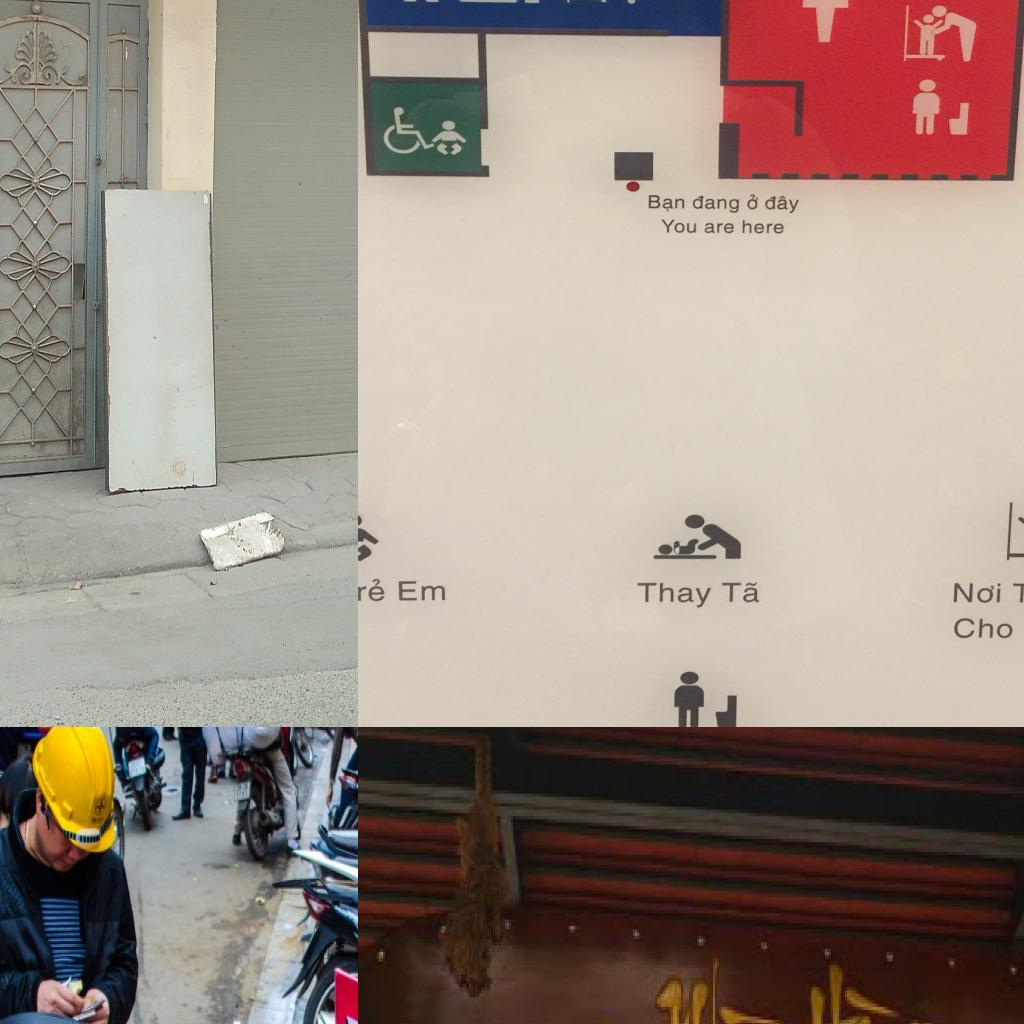text: (779, 955, 947, 1024), (647, 955, 779, 1024), (634, 581, 716, 610), (952, 616, 1015, 640), (395, 579, 448, 603), (950, 581, 1002, 605), (720, 580, 762, 604), (691, 194, 741, 214), (646, 192, 686, 213), (764, 194, 802, 216), (740, 218, 786, 235), (358, 578, 388, 604), (656, 217, 698, 235), (702, 220, 736, 236), (744, 193, 762, 211)
